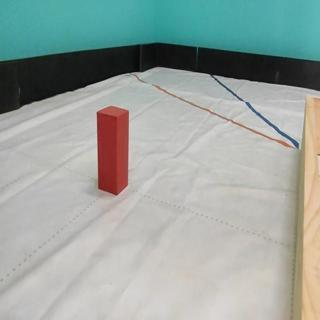redbox: (96, 104, 129, 194)
